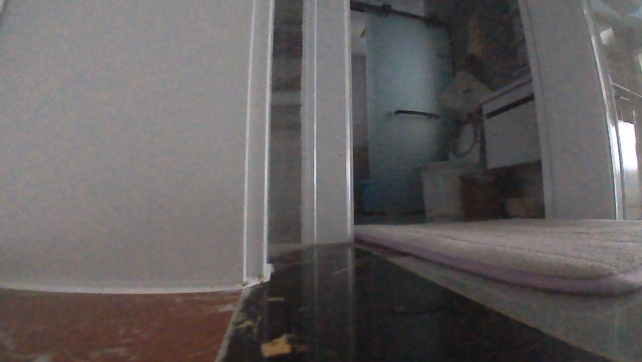blanket: (351, 212, 641, 300)
toilet: (416, 122, 486, 214)
